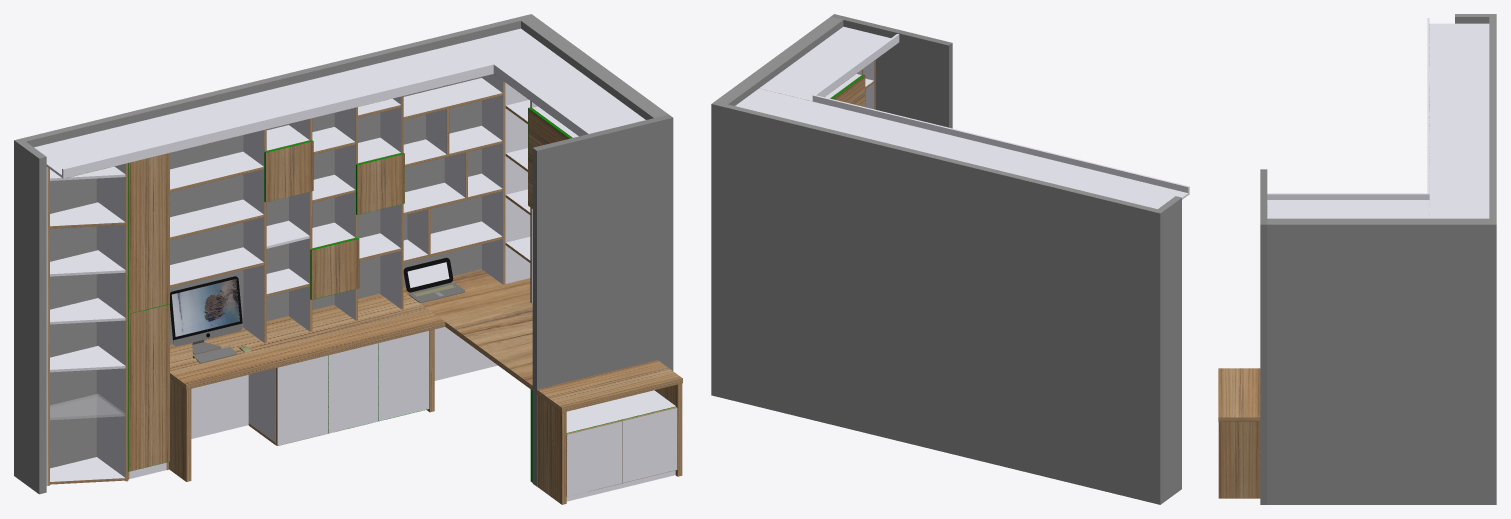
3 views of the same model, side by side, from view 1: azimuth 30°, elevation 25°; view 2: azimuth 150°, elevation 25°; view 3: azimuth 270°, elevation 25° (orthographic). The views are drawn at different scales.
Visible parts, largest first — view 1: {0E770876-2B0E-4a41-B72A-4BC4DED1B49A}_Node, {355EE3F2-4063-4520-8EF2-A7D23A0E1999}_Node, {D7195362-570A-4563-9C10-8AE618A27F5C}_Node, {3CD21D6E-2F0C-43ca-88E0-17929B3F3307}_Node, {BC8BE6BC-5986-45e3-8567-45F85007531C}_Node, {E9237085-06E1-4c2f-AB7B-7D8CE49BA263}_Node, {F6535D43-937D-43fc-9D3C-7D004BF1747E}_Node, {8D004BD7-DE89-4633-9B3E-71481EBBCF45}_Node, {4F0DBF3B-4AC5-47b4-82F4-073F7D35B8AA}_Node, {47F5C69B-94A3-42f4-97EB-D92DCB098DDF}_Node, {E290ED5B-917A-410c-BD53-4352655E6452}_Node, {A9D54882-9F5D-4779-9A33-125FC74CE37E}_Node (+46 smaller); view 2: {355EE3F2-4063-4520-8EF2-A7D23A0E1999}_Node, {D7195362-570A-4563-9C10-8AE618A27F5C}_Node, {0E770876-2B0E-4a41-B72A-4BC4DED1B49A}_Node, {DA8F5174-2439-4906-9B8C-9A550E3D14D4}_Node, {BC8BE6BC-5986-45e3-8567-45F85007531C}_Node, {8D004BD7-DE89-4633-9B3E-71481EBBCF45}_Node, {47F5C69B-94A3-42f4-97EB-D92DCB098DDF}_Node, {345702BB-C23A-4f26-B4BC-2A56CC013A5E}_Node, {C9F58F55-BB2C-4765-AF45-ED49A1910845}_Node, {B0906CA7-4AB6-44c9-A2C1-01962B98398F}_Node, {571B075F-C7F4-4f51-BD05-D27B47FBB04D}_Node, {D7F06120-4C4E-448f-8A71-AC00F4E07EA7}_Node; view 3: {DA8F5174-2439-4906-9B8C-9A550E3D14D4}_Node, {BC8BE6BC-5986-45e3-8567-45F85007531C}_Node, {8D004BD7-DE89-4633-9B3E-71481EBBCF45}_Node, {B4ABAC9F-F8DB-4de4-AF51-2C778D22876D}_Node, {47F5C69B-94A3-42f4-97EB-D92DCB098DDF}_Node, {0E770876-2B0E-4a41-B72A-4BC4DED1B49A}_Node, {2B863992-1CF4-4f8b-B684-3EA3745CFC55}_Node, {355EE3F2-4063-4520-8EF2-A7D23A0E1999}_Node, {571B075F-C7F4-4f51-BD05-D27B47FBB04D}_Node, {D7195362-570A-4563-9C10-8AE618A27F5C}_Node.
Part boxes in pixels (box(x1,y1,x2,y2)): {0E770876-2B0E-4a41-B72A-4BC4DED1B49A}_Node: box(532, 114, 673, 486); {355EE3F2-4063-4520-8EF2-A7D23A0E1999}_Node: box(29, 17, 520, 468); {D7195362-570A-4563-9C10-8AE618A27F5C}_Node: box(14, 138, 46, 494); {3CD21D6E-2F0C-43ca-88E0-17929B3F3307}_Node: box(170, 291, 444, 384); {BC8BE6BC-5986-45e3-8567-45F85007531C}_Node: box(250, 28, 556, 115); {E9237085-06E1-4c2f-AB7B-7D8CE49BA263}_Node: box(403, 269, 532, 385); {F6535D43-937D-43fc-9D3C-7D004BF1747E}_Node: box(129, 304, 169, 471); {8D004BD7-DE89-4633-9B3E-71481EBBCF45}_Node: box(34, 94, 278, 177); {4F0DBF3B-4AC5-47b4-82F4-073F7D35B8AA}_Node: box(129, 153, 169, 313); {47F5C69B-94A3-42f4-97EB-D92DCB098DDF}_Node: box(502, 54, 645, 133); {E290ED5B-917A-410c-BD53-4352655E6452}_Node: box(378, 331, 429, 420); {A9D54882-9F5D-4779-9A33-125FC74CE37E}_Node: box(277, 355, 328, 445); {355EE3F2-4063-4520-8EF2-A7D23A0E1999}_Node: box(724, 104, 1150, 501); {D7195362-570A-4563-9C10-8AE618A27F5C}_Node: box(1154, 196, 1181, 504); {0E770876-2B0E-4a41-B72A-4BC4DED1B49A}_Node: box(831, 14, 952, 128); {DA8F5174-2439-4906-9B8C-9A550E3D14D4}_Node: box(711, 16, 843, 398); {BC8BE6BC-5986-45e3-8567-45F85007531C}_Node: box(735, 88, 993, 163); {8D004BD7-DE89-4633-9B3E-71481EBBCF45}_Node: box(970, 146, 1188, 208); {47F5C69B-94A3-42f4-97EB-D92DCB098DDF}_Node: box(759, 26, 890, 101); {345702BB-C23A-4f26-B4BC-2A56CC013A5E}_Node: box(1147, 207, 1157, 503); {C9F58F55-BB2C-4765-AF45-ED49A1910845}_Node: box(994, 139, 1189, 194); {B0906CA7-4AB6-44c9-A2C1-01962B98398F}_Node: box(812, 95, 994, 145); {571B075F-C7F4-4f51-BD05-D27B47FBB04D}_Node: box(814, 34, 899, 96); {D7F06120-4C4E-448f-8A71-AC00F4E07EA7}_Node: box(833, 75, 865, 106); {DA8F5174-2439-4906-9B8C-9A550E3D14D4}_Node: box(1267, 218, 1496, 504); {BC8BE6BC-5986-45e3-8567-45F85007531C}_Node: box(1429, 115, 1489, 218); {8D004BD7-DE89-4633-9B3E-71481EBBCF45}_Node: box(1429, 23, 1489, 114); {B4ABAC9F-F8DB-4de4-AF51-2C778D22876D}_Node: box(1218, 421, 1260, 498); {47F5C69B-94A3-42f4-97EB-D92DCB098DDF}_Node: box(1267, 200, 1429, 218); {0E770876-2B0E-4a41-B72A-4BC4DED1B49A}_Node: box(1260, 169, 1267, 504); {2B863992-1CF4-4f8b-B684-3EA3745CFC55}_Node: box(1218, 368, 1260, 417); {355EE3F2-4063-4520-8EF2-A7D23A0E1999}_Node: box(1489, 20, 1496, 218); {571B075F-C7F4-4f51-BD05-D27B47FBB04D}_Node: box(1267, 193, 1427, 199); {D7195362-570A-4563-9C10-8AE618A27F5C}_Node: box(1455, 14, 1496, 23).
Size of the model in its own units: 4.18 by 2.59 by 2.33.
14 materials, 6 textured.
